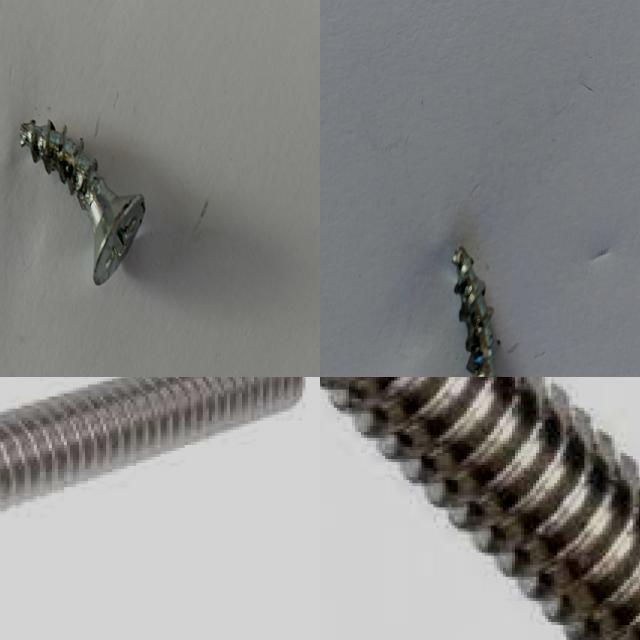Screw: (320, 377, 640, 640), (0, 377, 308, 514), (20, 118, 145, 284), (453, 246, 500, 377)
